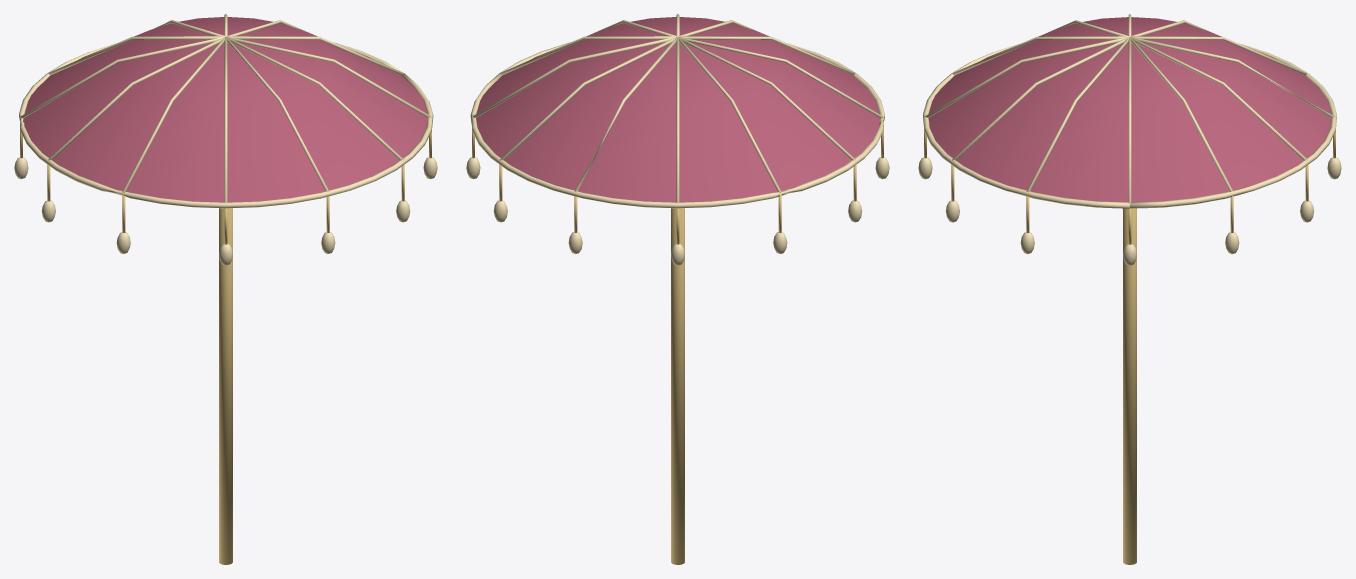
The model's file is festive-umbrella.glb.
The picture shows the model from 3 angles, left to right: view 1: azimuth 30°, elevation 25°; view 2: azimuth 150°, elevation 25°; view 3: azimuth 270°, elevation 25°; orthographic projection.
Parts seen in each view (by area): view 1: canopy-1, spokes-3, pole-0, rim-2, tassels-5, tassels-4; view 2: canopy-1, spokes-3, pole-0, rim-2, tassels-5, tassels-4; view 3: canopy-1, spokes-3, pole-0, rim-2, tassels-5, tassels-4.
Boxes of the visible parts, x1,y1,x2,y2 form: canopy-1: (23, 17, 427, 202); spokes-3: (20, 14, 431, 203); pole-0: (219, 208, 232, 564); rim-2: (19, 42, 433, 208); tassels-5: (14, 157, 437, 265); tassels-4: (20, 123, 431, 244); canopy-1: (476, 17, 880, 202); spokes-3: (473, 14, 883, 203); pole-0: (671, 208, 684, 564); rim-2: (470, 42, 884, 208); tassels-5: (466, 157, 889, 265); tassels-4: (472, 119, 883, 244); canopy-1: (928, 17, 1331, 202); spokes-3: (924, 14, 1335, 203); pole-0: (1123, 208, 1136, 564); rim-2: (923, 43, 1336, 208); tassels-5: (918, 157, 1341, 265); tassels-4: (924, 130, 1335, 244).
Size of the model in its own units: 1.49 by 2.04 by 1.49.
